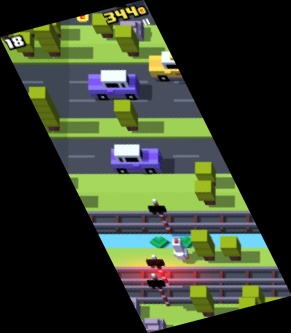car: (110, 142, 162, 174), (150, 50, 200, 82), (89, 69, 139, 99)
duck: (172, 238, 193, 263)
light off: (148, 200, 177, 236), (147, 279, 170, 306)
light on: (144, 253, 178, 290)
lilypad: (175, 234, 195, 250), (151, 235, 171, 249)
rail: (86, 211, 262, 231), (120, 284, 291, 303), (112, 266, 290, 284)
rock: (118, 18, 147, 42), (118, 297, 142, 318), (144, 317, 165, 333)
tree: (28, 86, 61, 131), (33, 20, 61, 56), (188, 285, 217, 317), (114, 25, 140, 58), (113, 100, 140, 131), (192, 231, 218, 261), (218, 237, 242, 263), (241, 284, 265, 310), (12, 31, 35, 56), (195, 179, 216, 206), (195, 161, 216, 186), (94, 13, 114, 38), (239, 296, 261, 318), (264, 295, 284, 315)
water: (97, 234, 268, 249)
